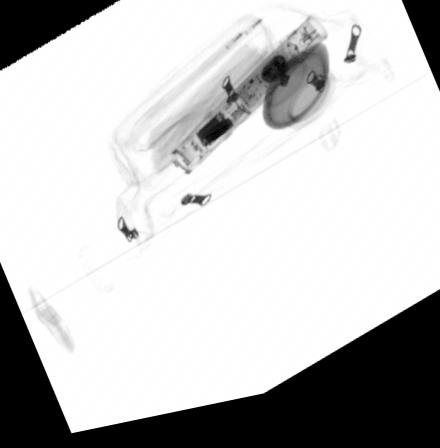Baton: (169, 26, 328, 184)
